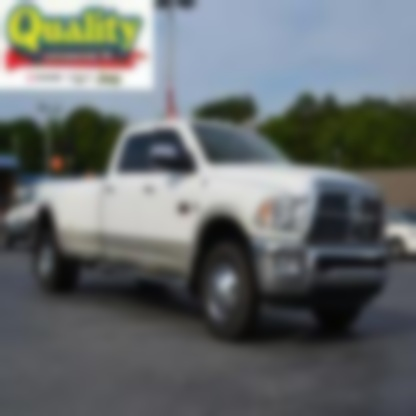Vehicle: (30, 118, 392, 343)
